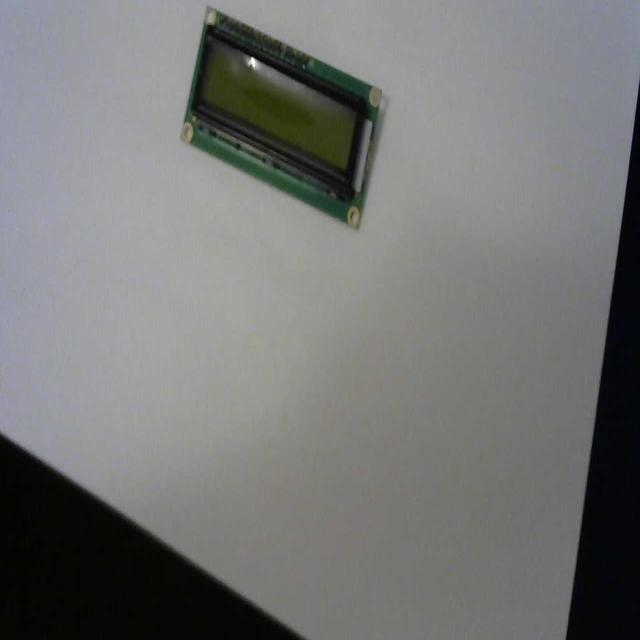lcd: (180, 5, 382, 231)
